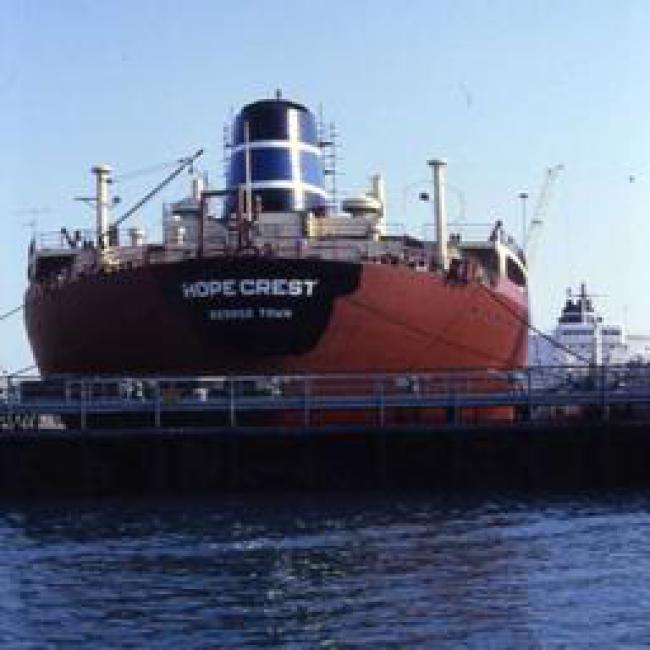Ship: (17, 180, 550, 372)
